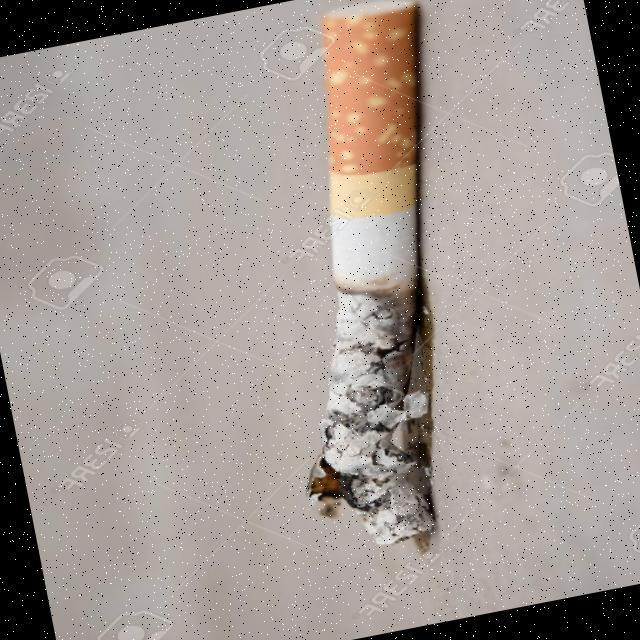cigarette: (207, 0, 535, 558)
